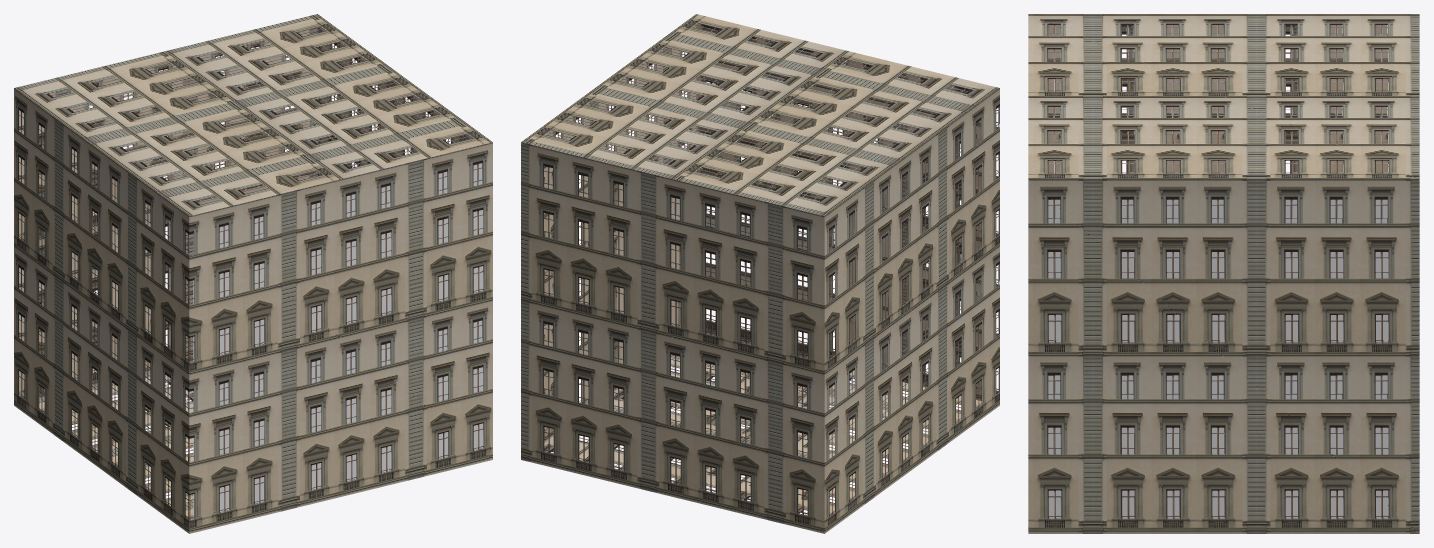
File: shichashinei.glb
3 views of the same model, side by side, from view 1: azimuth 30°, elevation 25°; view 2: azimuth 150°, elevation 25°; view 3: azimuth 270°, elevation 25° (orthographic). The views are drawn at different scales.
Parts seen in each view (by area): view 1: 立方体, shinei3d; view 2: 立方体; view 3: 立方体, shinei3d.
Part boxes in pixels (<box>): 立方体: <box>14,14,492,533</box>; shinei3d: <box>193,163,483,518</box>; 立方体: <box>521,14,999,533</box>; 立方体: <box>1028,14,1419,533</box>; shinei3d: <box>1048,199,1388,517</box>.
Bounding box in the file's own units: 14.52 × 14.52 × 14.52.
1 material, 1 textured.
